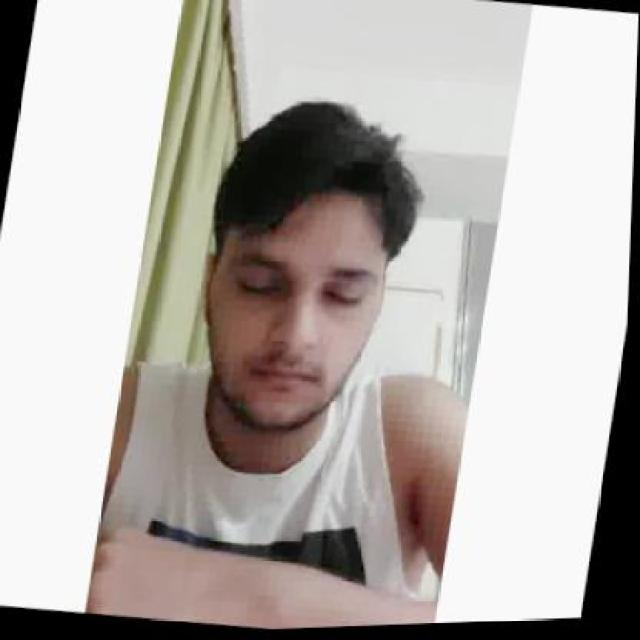inattentif: (175, 86, 418, 454)
